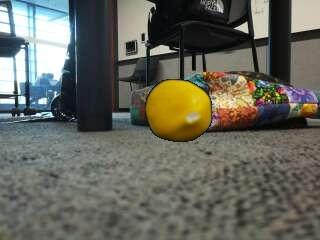lemon: (147, 80, 212, 141)
